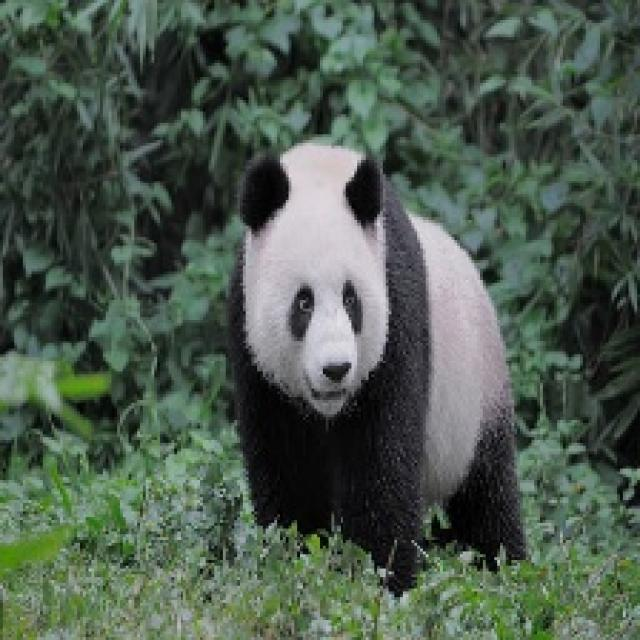animal: (184, 100, 586, 586)
